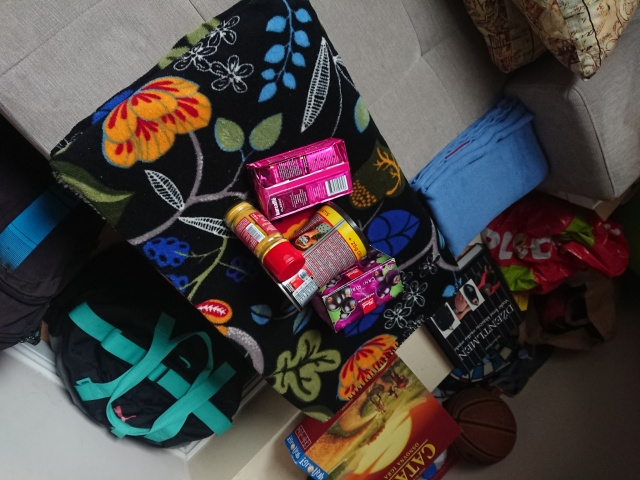Barcaffe Classic Original 225g: (244, 134, 355, 224)
Franck Black Currant Tea 60g: (305, 241, 408, 335)
Kotanyi Curry Spices Mix 70g: (221, 199, 307, 285)
Nescafe Classic 225g: (259, 199, 373, 314)
